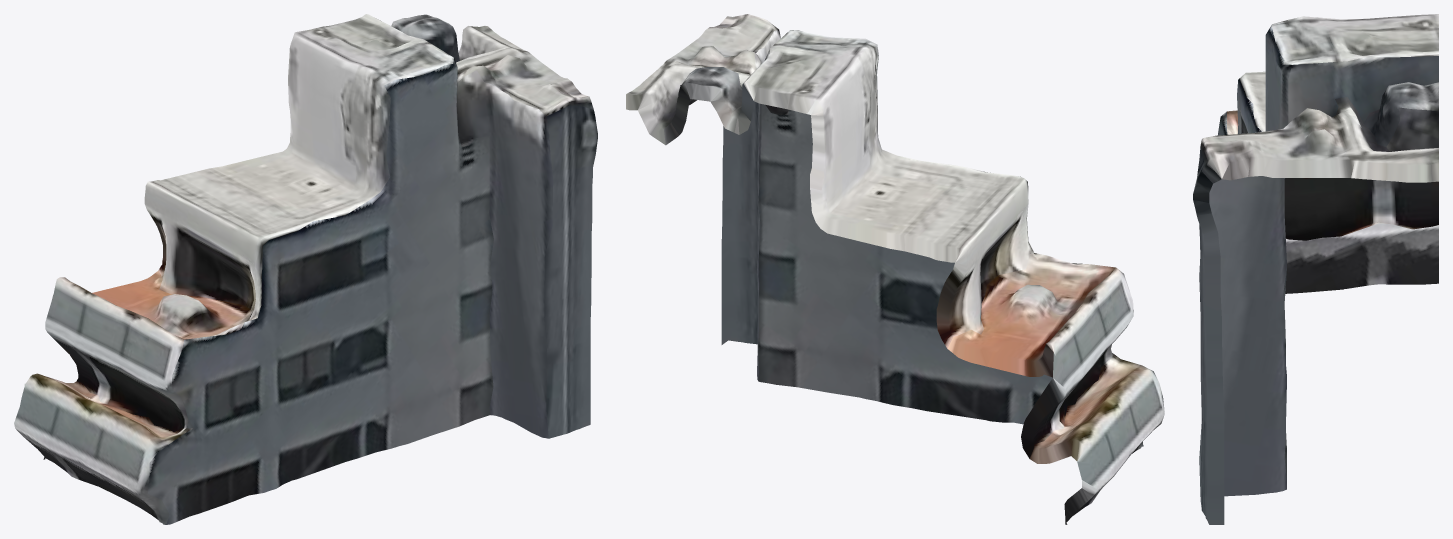
The model's file is z20-167754-405238-h1-yup-uvflip-v3-world.glb.
3 views of the same model, side by side, from view 1: azimuth 30°, elevation 25°; view 2: azimuth 150°, elevation 25°; view 3: azimuth 270°, elevation 25° (orthographic). The views are drawn at different scales.
Size of the model in its own units: 19.44 by 14.52 by 7.84.
Materials: 1 (1 with a texture image).
